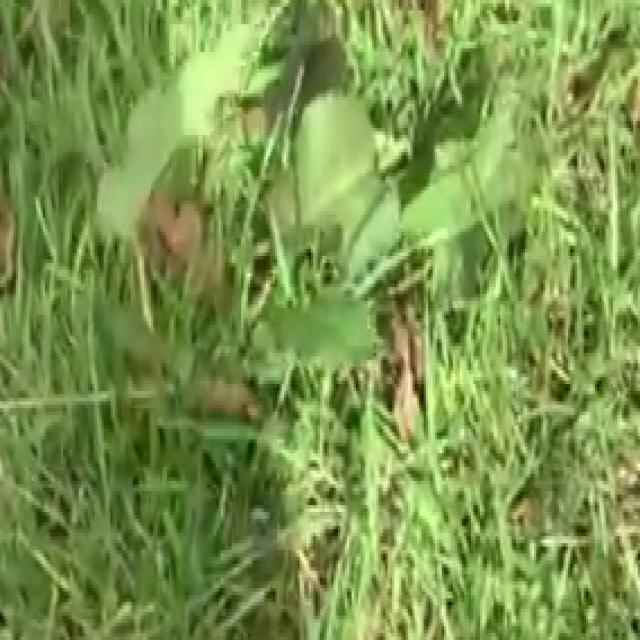organic waste: (110, 0, 561, 477)
